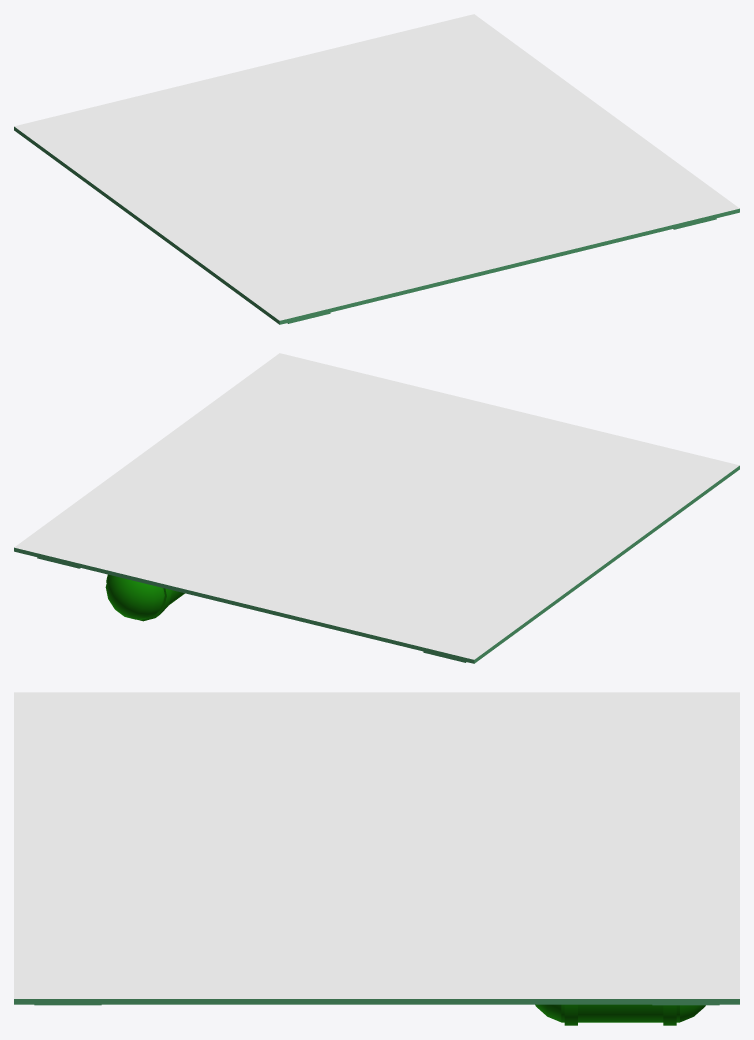
File: mech 2 floor lod0.FBX
The picture shows the model from 3 angles, top to bottom: view 1: azimuth 30°, elevation 25°; view 2: azimuth 150°, elevation 25°; view 3: azimuth 270°, elevation 25°; orthographic projection. The views are drawn at different scales.
Visible parts, largest first — view 1: Object076; view 2: Object076; view 3: Object076.
Part boxes in pixels (left/top/right/bottom): Object076: left=14, top=14, right=739, bottom=324; Object076: left=14, top=353, right=739, bottom=663; Object076: left=14, top=692, right=739, bottom=1025.
Size of the model in its own units: 3 by 0.4036 by 3.
